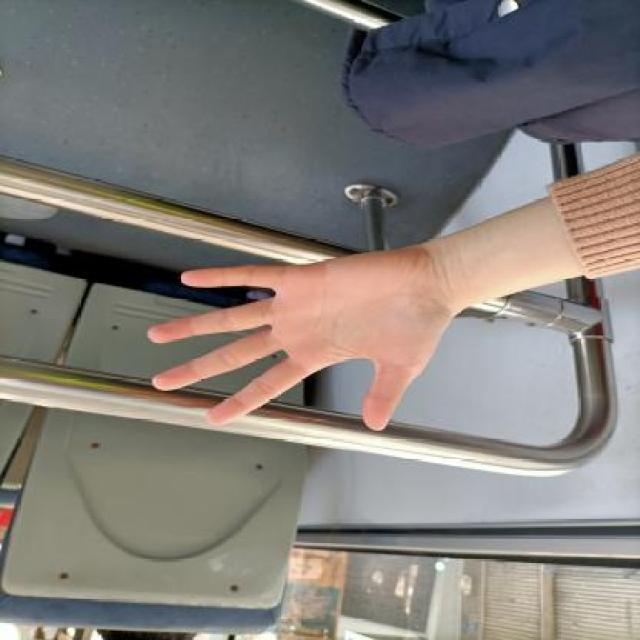bare_hand: (140, 226, 468, 451)
